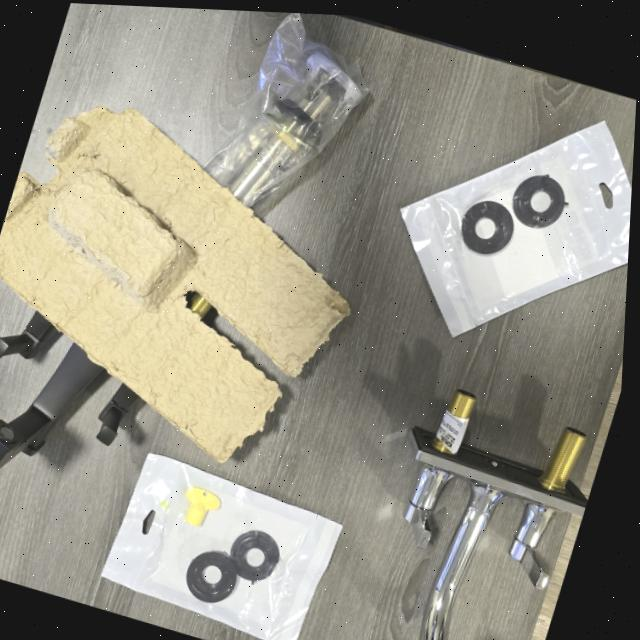10: (402, 386, 588, 640)
11o: (204, 13, 368, 205)
12: (102, 452, 342, 640)
13: (401, 120, 632, 335)
13o: (405, 389, 587, 640)
9o: (0, 341, 110, 467), (0, 311, 63, 356), (97, 382, 139, 444), (185, 289, 219, 325)
